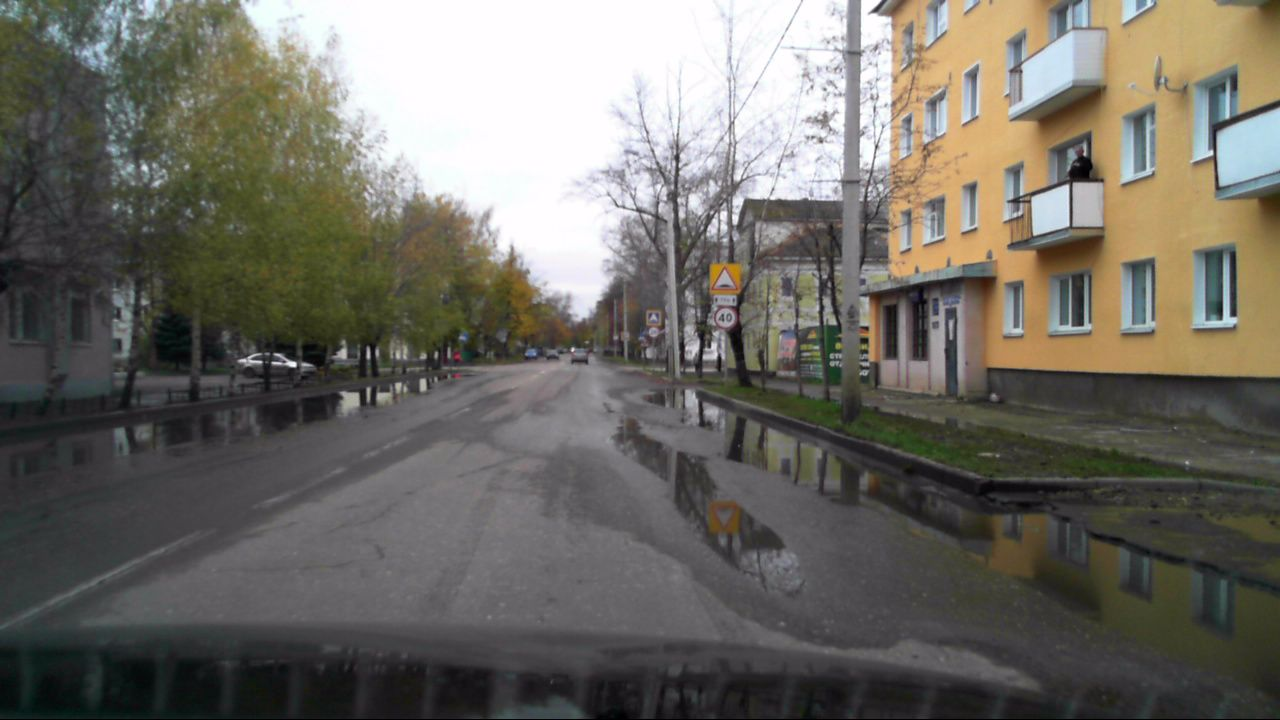speed_warning_40: (713, 306, 738, 330)
